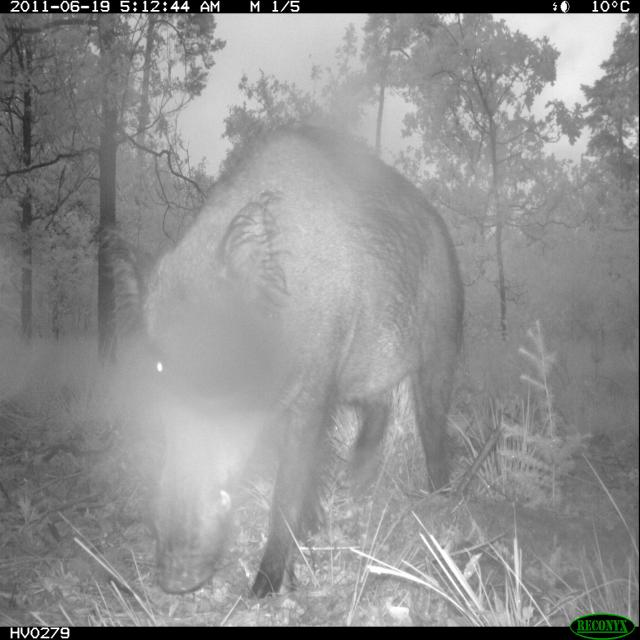boar: (104, 96, 512, 615)
